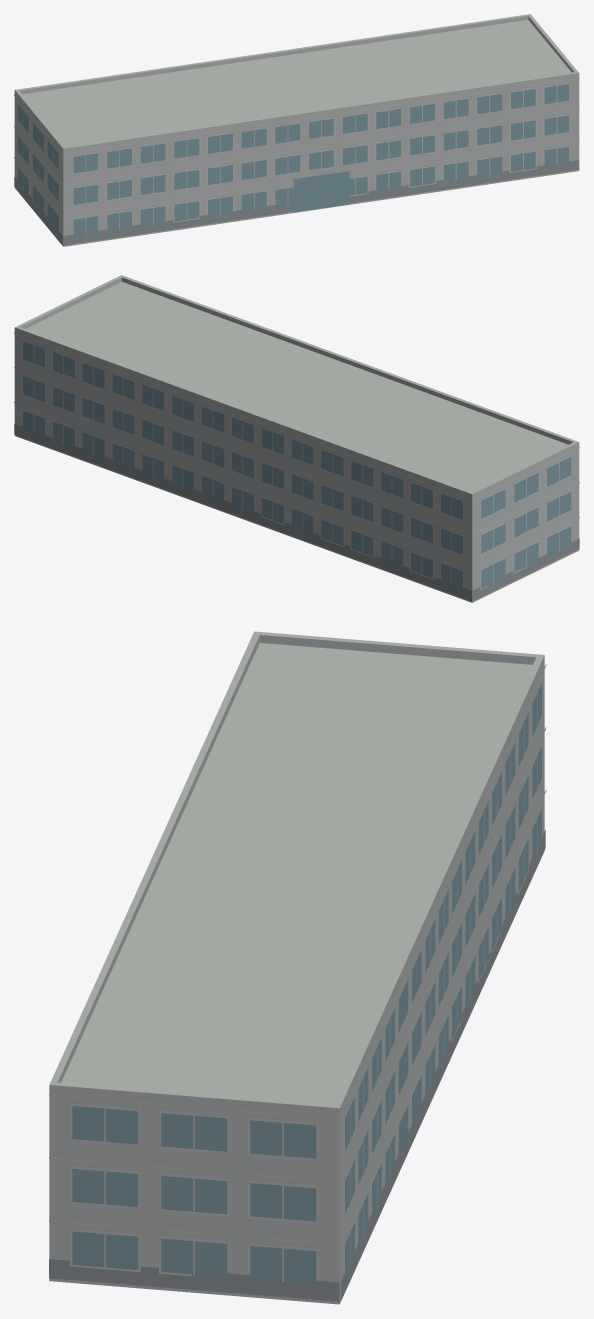
Rendered from public-2098ef38-fae5-4ec4-be4c-23203e34d67e.glb.
The picture shows the model from 3 angles, top to bottom: view 1: azimuth 30°, elevation 25°; view 2: azimuth 150°, elevation 25°; view 3: azimuth 270°, elevation 25°; orthographic projection. The views are drawn at different scales.
Visible parts, largest first — view 1: public-2098ef38-fae5-4ec4-be4c-23203e34d67e; view 2: public-2098ef38-fae5-4ec4-be4c-23203e34d67e; view 3: public-2098ef38-fae5-4ec4-be4c-23203e34d67e.
Boxes of the visible parts, x1,y1,x2,y2 form: public-2098ef38-fae5-4ec4-be4c-23203e34d67e: (14,14,579,246); public-2098ef38-fae5-4ec4-be4c-23203e34d67e: (14,275,579,602); public-2098ef38-fae5-4ec4-be4c-23203e34d67e: (49,631,546,1304).
Bounding box in the file's own units: 47.84 × 9.15 × 21.08.
